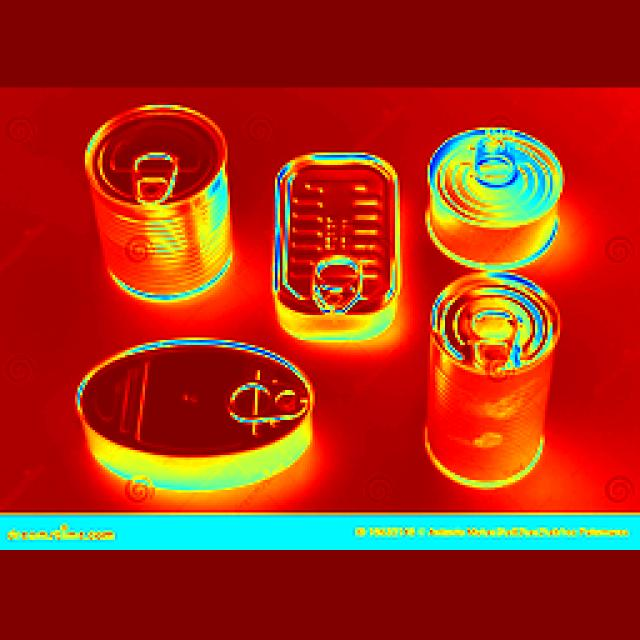Aluminium Food Cans: (66, 315, 351, 507), (76, 98, 240, 331), (266, 142, 405, 372), (430, 271, 570, 493), (432, 119, 554, 272)
